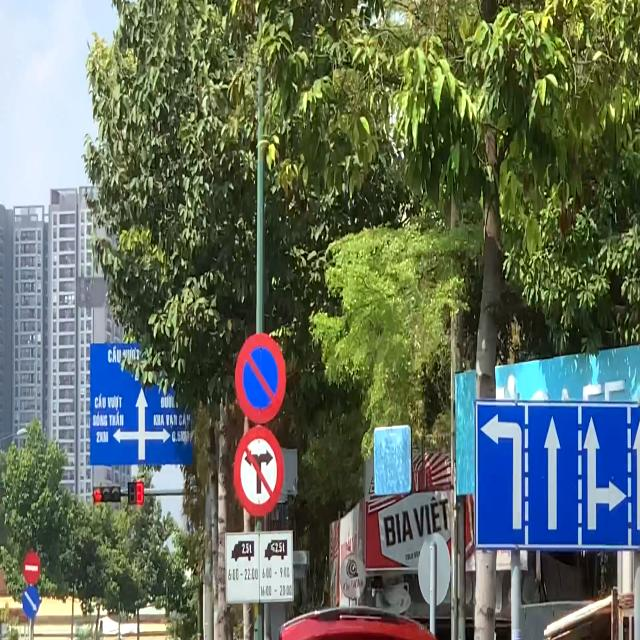P.102: (22, 548, 42, 584)
P.131a: (234, 325, 290, 418)
P.137: (230, 424, 284, 516)
R.302a: (20, 587, 42, 620)
